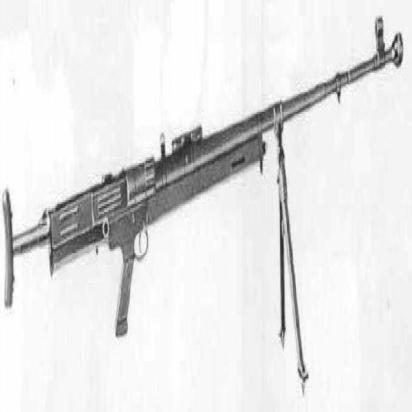Gun: (0, 8, 404, 401)
